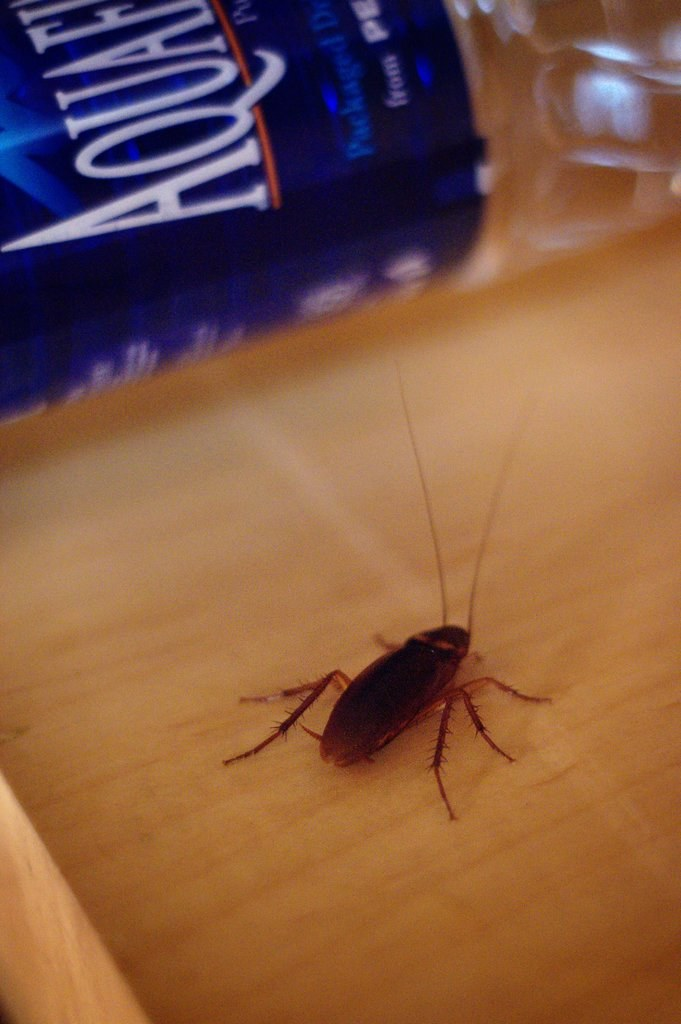insect: (219, 383, 556, 825)
